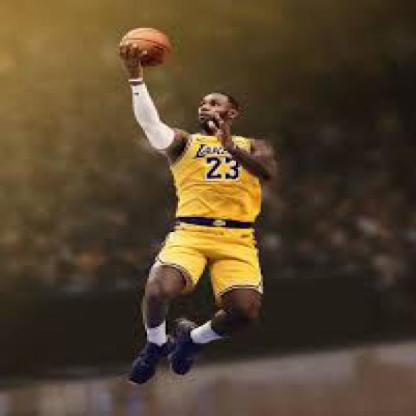basketball: (120, 27, 172, 66)
